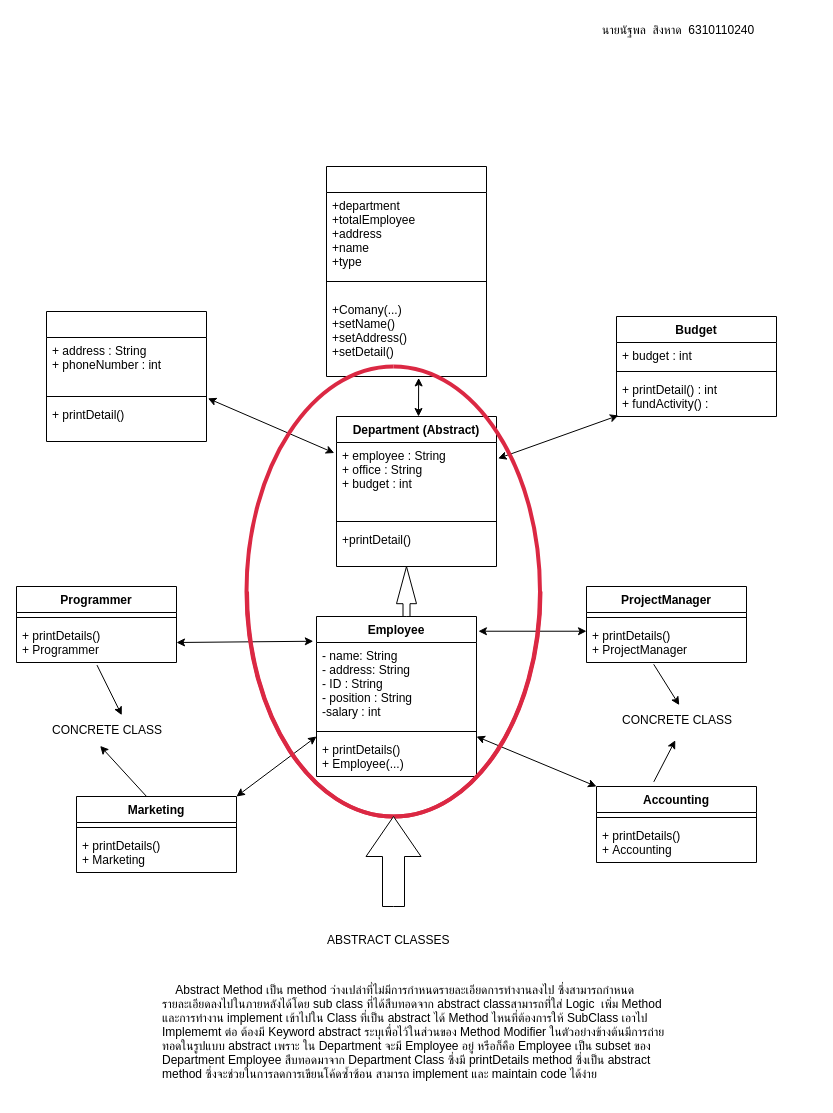
The diagram is 833 pixels wide and 1113 high, and some of its shapes have lost their labels. Each missing label, with the box of its shape:
Company: (326, 166, 486, 376)
Office: (46, 310, 206, 442)
